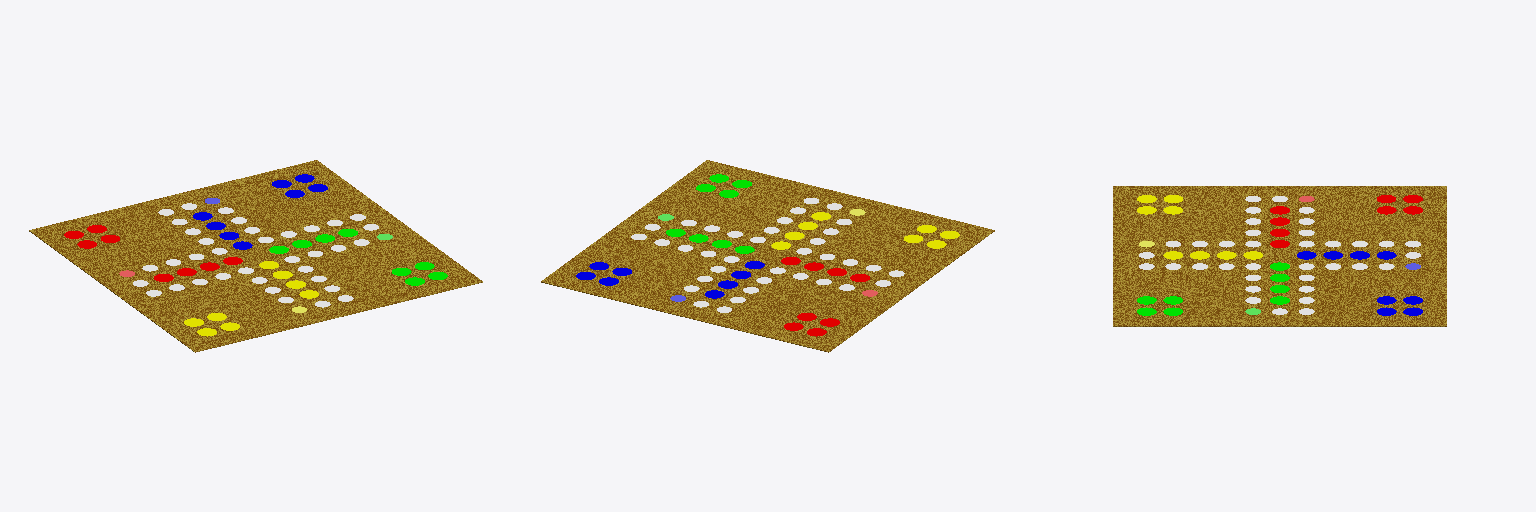
3 views of the same model, side by side, from view 1: azimuth 30°, elevation 25°; view 2: azimuth 150°, elevation 25°; view 3: azimuth 270°, elevation 25° (orthographic).
Parts seen in each view (by area): view 1: Box001; view 2: Box001; view 3: Box001.
Boxes of the visible parts, x1,y1,x2,y2 form: Box001: [29, 160, 482, 352]; Box001: [541, 160, 994, 352]; Box001: [1113, 186, 1446, 326].
Size of the model in its own units: 50 by 0.2 by 50.
Materials: 10 (1 with a texture image).